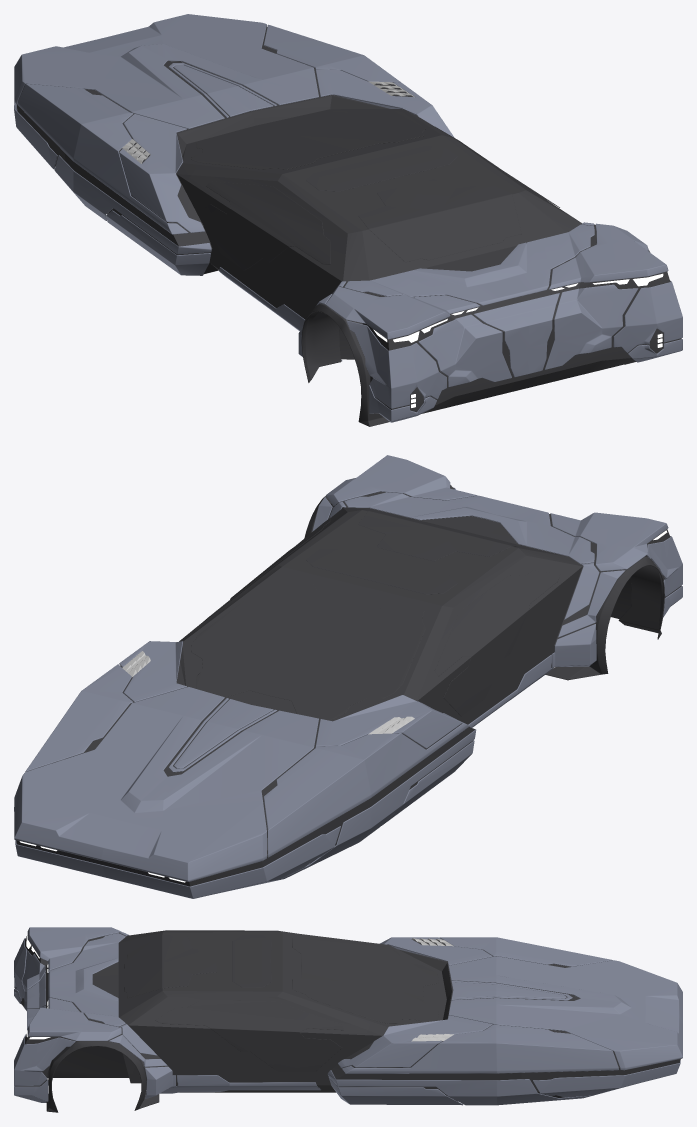
Rendered from tide-car-2.glb.
The picture shows the model from 3 angles, top to bottom: view 1: azimuth 30°, elevation 25°; view 2: azimuth 150°, elevation 25°; view 3: azimuth 270°, elevation 25°; orthographic projection. The views are drawn at different scales.
Visible parts, largest first — view 1: body, glow; view 2: body; view 3: body.
Part boxes in pixels (x1,y1,x2,y2): body: (14,14,682,426); glow: (373,273,663,407); body: (14,455,682,898); body: (14,927,682,1112).
Size of the model in its own units: 2.59 by 0.9964 by 6.3.
